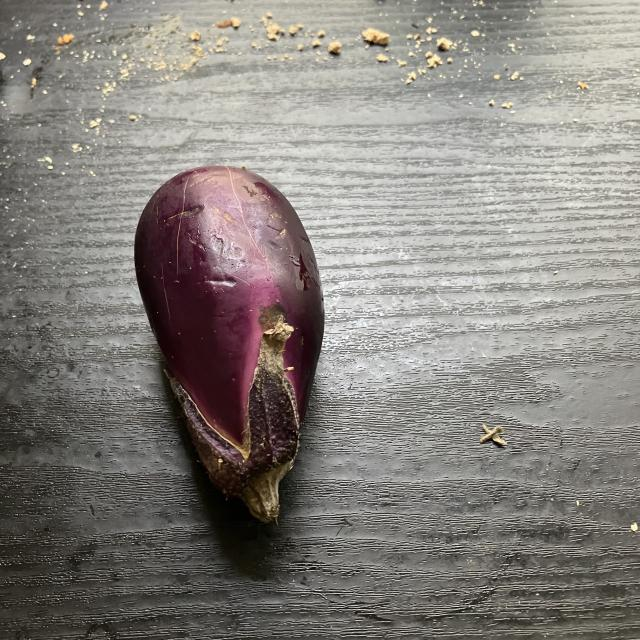eggplant: (130, 163, 330, 539)
